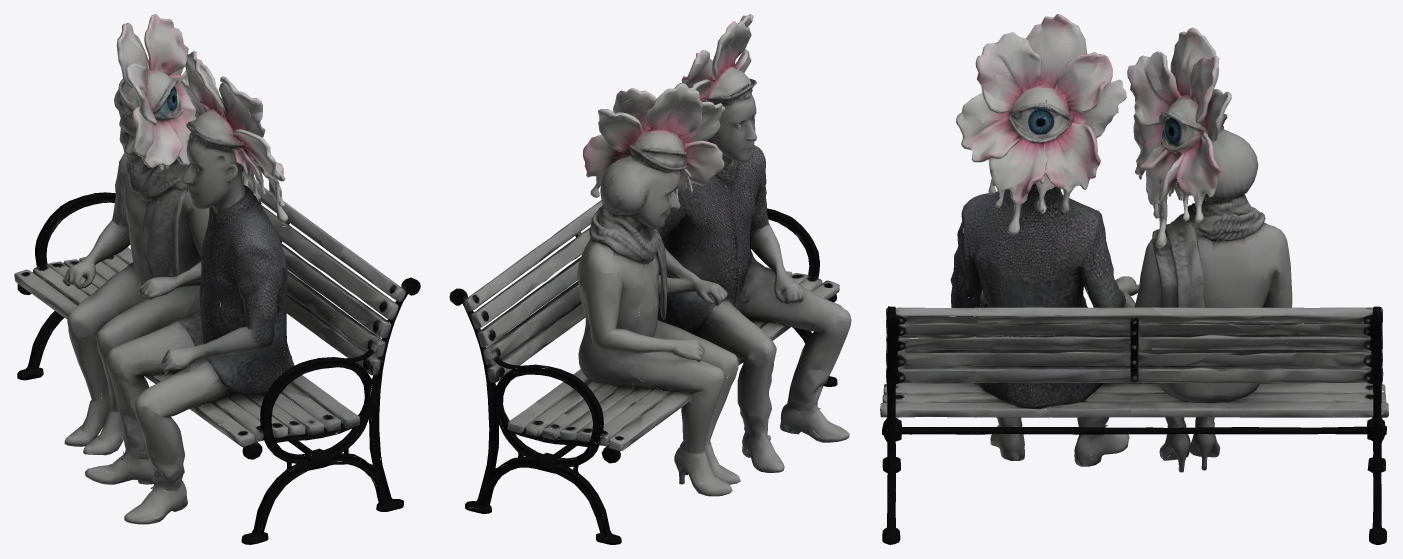
Rendered from bench.glb.
3 renders of one model, left to right at view 1: azimuth 30°, elevation 25°; view 2: azimuth 150°, elevation 25°; view 3: azimuth 270°, elevation 25°, orthographic. The views are drawn at different scales.
Parts seen in each view (by area): view 1: tripo_node_d95cc61d-2b94-4053-898b-3871625fd2c2; view 2: tripo_node_d95cc61d-2b94-4053-898b-3871625fd2c2; view 3: tripo_node_d95cc61d-2b94-4053-898b-3871625fd2c2.
Part boxes in pixels (x1=…): tripo_node_d95cc61d-2b94-4053-898b-3871625fd2c2: x1=14, y1=14, x2=420, y2=544; tripo_node_d95cc61d-2b94-4053-898b-3871625fd2c2: x1=449, y1=14, x2=851, y2=544; tripo_node_d95cc61d-2b94-4053-898b-3871625fd2c2: x1=880, y1=14, x2=1388, y2=544.
Bounding box in the file's own units: 0.5854 × 0.9998 × 0.9878.
1 material, 1 textured.
